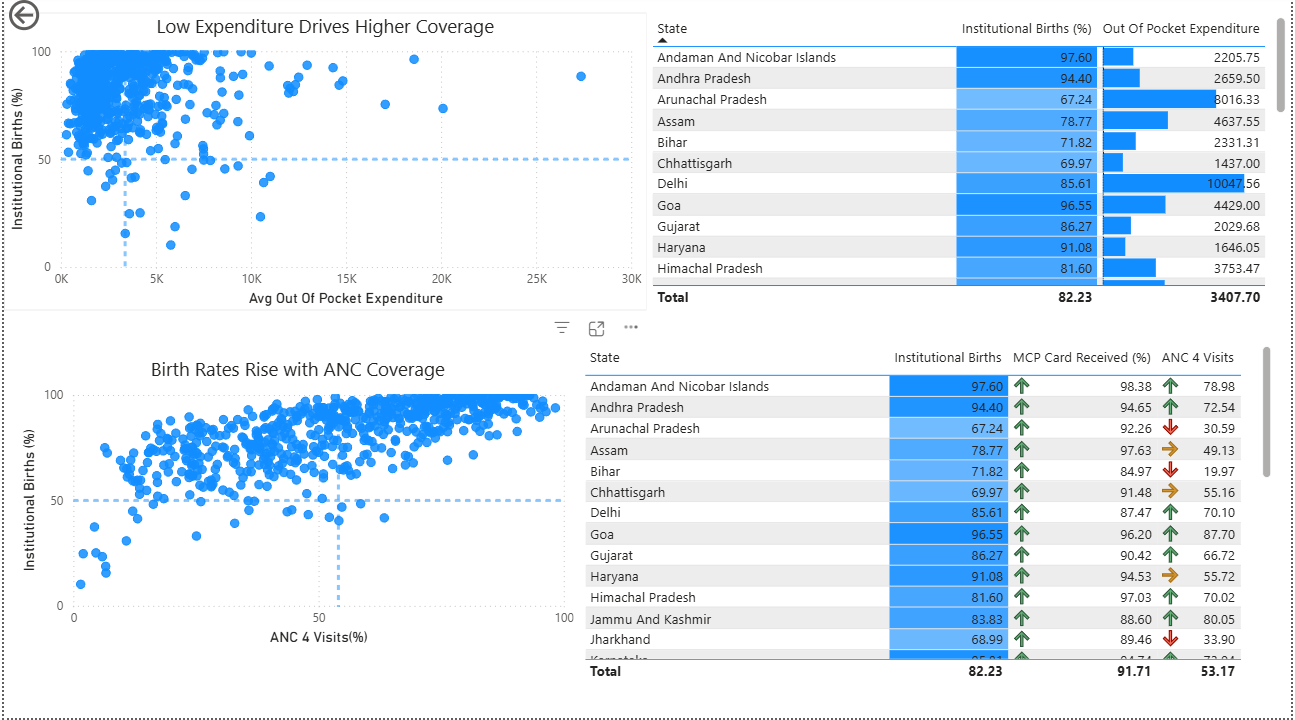

Layout of this report page (visuals, bound fields, positions):
{"tool":"powerbi","page":{"name":"Details","canvas":[1280,720],"ordinal":2},"visuals":[{"type":"scatterChart","title":"Low Expenditure Drives Higher Coverage","fields":{"Y":["Avg(NFHS.Institutional Births (%))"],"X":["Avg(NFHS.Avg Out Of Pocket Expenditure For Each Delivery In PHF (INR))"],"Category":["NFHS.District"]},"box":[0,17.4,639.4,297.3],"z":0},{"type":"scatterChart","title":"Birth Rates Rise with ANC Coverage","fields":{"Y":["Avg(NFHS.Institutional Births (%))"],"Category":["NFHS.District"],"X":["Avg(NFHS.Mothers Who Had At Least 4 Antenatal Care Visits (%))"]},"box":[12.4,359.5,559.8,292.3],"z":1000},{"type":"tableEx","title":"Low Expenditure Drives Higher Coverage","fields":{"Values":["NFHS.State","Avg(NFHS.Institutional Births (%))","Avg(NFHS.Avg Out Of Pocket Expenditure For Each Delivery In PHF (INR))"]},"box":[639.4,17.4,640.6,297.3],"z":2000},{"type":"tableEx","title":"Birth Rates Rise with ANC Coverage","fields":{"Values":["NFHS.State","Avg(NFHS.Institutional Births (%))","Avg(NFHS.Registered Pregnancies For Which The Mother Received A Mother And Child Protection Card (Mcp)(%))","Avg(NFHS.Mothers Who Had At Least 4 Antenatal Care Visits (%))"]},"box":[572.2,344.6,694.1,342.1],"z":3000},{"type":"actionButton","box":[0,0,100,40],"z":3001}]}

Visuals, with their boxes in screenshot pixels (x1, y1, x2, y2), scaled from the page's 1280x720 canvas onto the 1295x720 screenshot:
"Low Expenditure Drives Higher Coverage" scatterChart: [0,17,647,315]
"Birth Rates Rise with ANC Coverage" scatterChart: [13,360,579,652]
"Low Expenditure Drives Higher Coverage" tableEx: [647,17,1294,315]
"Birth Rates Rise with ANC Coverage" tableEx: [579,345,1281,687]
actionButton: [0,0,101,40]
